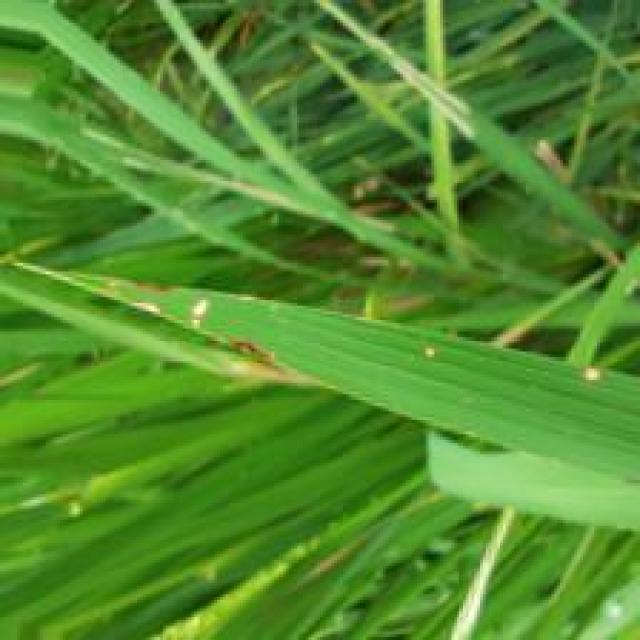Brown_Spot: (222, 335, 277, 370)
